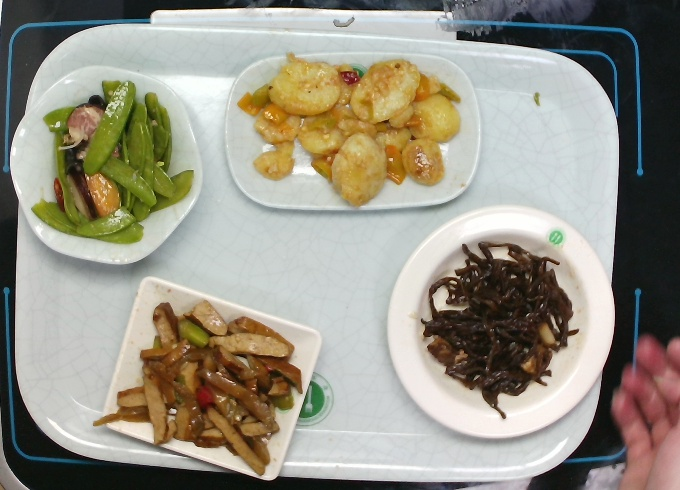WCQzf-Bai_Se_Si_Fang_Die: (93, 272, 324, 482)
WCQzf-Hua_Duo_Wan: (8, 61, 207, 270)
WCQzf-Kuan_Bian_Yuan_Die: (379, 196, 623, 442)
WCQzf-Tuo_Yuan_Pan: (216, 45, 486, 219)
